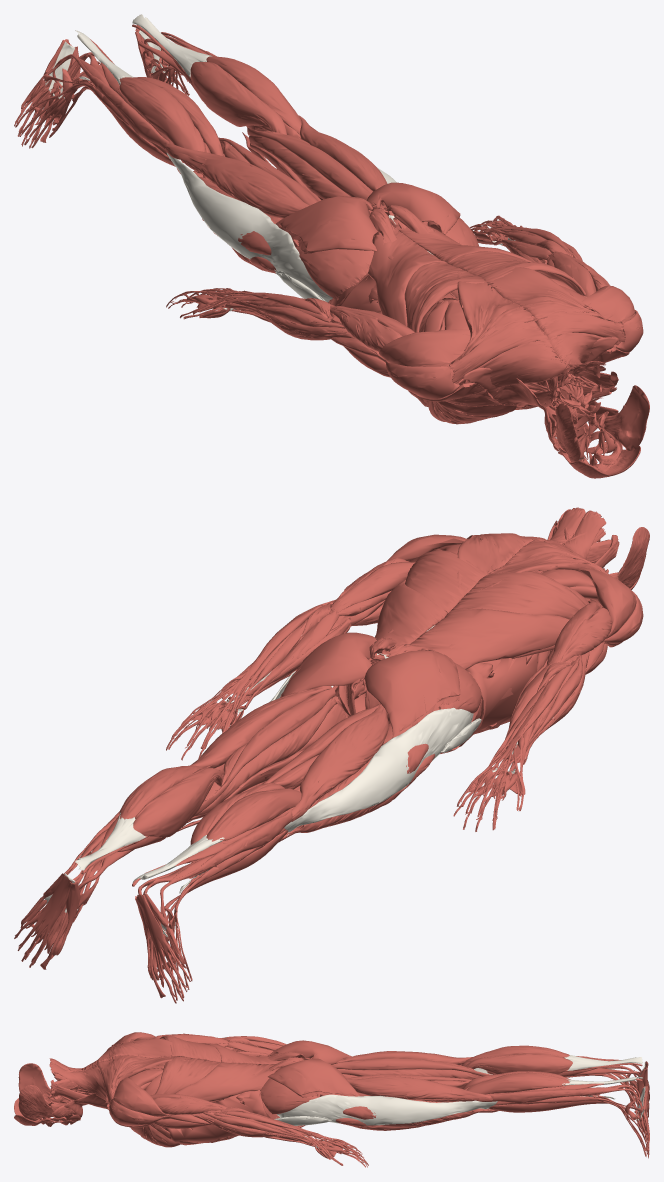
Rendered from muscles.glb.
3 renders of one model, top to bottom at view 1: azimuth 30°, elevation 25°; view 2: azimuth 150°, elevation 25°; view 3: azimuth 270°, elevation 25°, orthographic. The views are drawn at different scales.
Parts seen in each view (by area): view 1: right latissimus dorsi, right iliotibial tract, right gluteus maximus, long head of right biceps femoris, left latissimus dorsi, medial head of left gastrocnemius, lateral head of right gastrocnemius, ascending part of left trapezius, ascending part of right trapezius, descending part of right trapezius, spinal part of right deltoid, right gluteus medius (+28 smaller); view 2: right latissimus dorsi, right iliotibial tract, left latissimus dorsi, right gluteus maximus, long head of right biceps femoris, left gluteus maximus, medial head of left gastrocnemius, right external oblique, long head of left biceps femoris, lateral head of right gastrocnemius, left semimembranosus, left semitendinosus (+28 smaller); view 3: left latissimus dorsi, left iliotibial tract, long head of left biceps femoris, left gluteus maximus, medial head of right gastrocnemius, left external oblique, right latissimus dorsi, lateral head of left gastrocnemius, right semitendinosus, spinal part of left deltoid, left gluteus medius, left fibularis longus (+39 smaller).
Part boxes in pixels (x1,y1,x2,y2): right latissimus dorsi: [367, 224, 488, 332]; right iliotibial tract: [166, 152, 332, 302]; right gluteus maximus: [276, 196, 379, 253]; long head of right biceps femoris: [165, 143, 309, 218]; left latissimus dorsi: [389, 217, 585, 295]; medial head of left gastrocnemius: [190, 62, 287, 134]; lateral head of right gastrocnemius: [119, 77, 205, 173]; ascending part of left trapezius: [463, 267, 606, 321]; ascending part of right trapezius: [457, 271, 536, 356]; descending part of right trapezius: [477, 339, 585, 387]; spinal part of right deltoid: [379, 329, 472, 367]; right gluteus medius: [296, 246, 373, 300]; right latissimus dorsi: [388, 571, 585, 669]; right iliotibial tract: [284, 707, 473, 832]; left latissimus dorsi: [374, 550, 487, 656]; right gluteus maximus: [364, 650, 460, 737]; long head of right biceps femoris: [291, 704, 388, 821]; left gluteus maximus: [280, 632, 376, 697]; medial head of left gastrocnemius: [133, 767, 222, 837]; right external oblique: [459, 653, 547, 746]; long head of left biceps femoris: [190, 686, 331, 768]; lateral head of right gastrocnemius: [206, 788, 301, 841]; left semimembranosus: [195, 697, 336, 816]; left semitendinosus: [192, 687, 335, 817]; left latissimus dorsi: [154, 1056, 279, 1102]; left iliotibial tract: [277, 1094, 497, 1125]; long head of left biceps femoris: [346, 1076, 492, 1101]; left gluteus maximus: [268, 1058, 360, 1097]; medial head of right gastrocnemius: [465, 1054, 572, 1074]; left external oblique: [165, 1090, 270, 1145]; right latissimus dorsi: [160, 1035, 283, 1064]; lateral head of left gastrocnemius: [466, 1072, 569, 1094]; right semitendinosus: [332, 1058, 492, 1076]; spinal part of left deltoid: [113, 1077, 170, 1116]; left gluteus medius: [260, 1078, 317, 1114]; left fibularis longus: [490, 1088, 642, 1105].
Bounding box in the file's own units: 639 × 251 × 1672.
